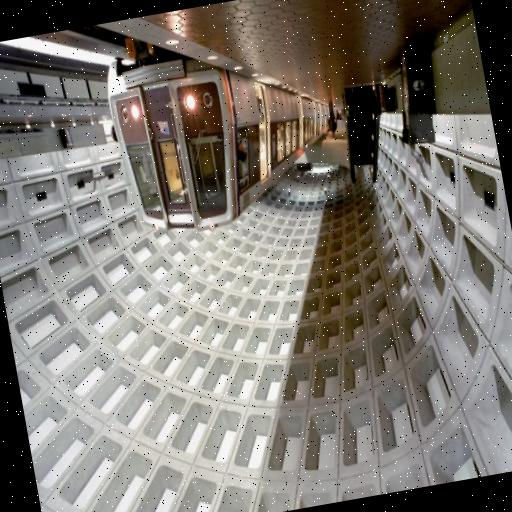platform_edge: (96, 0, 301, 125)
